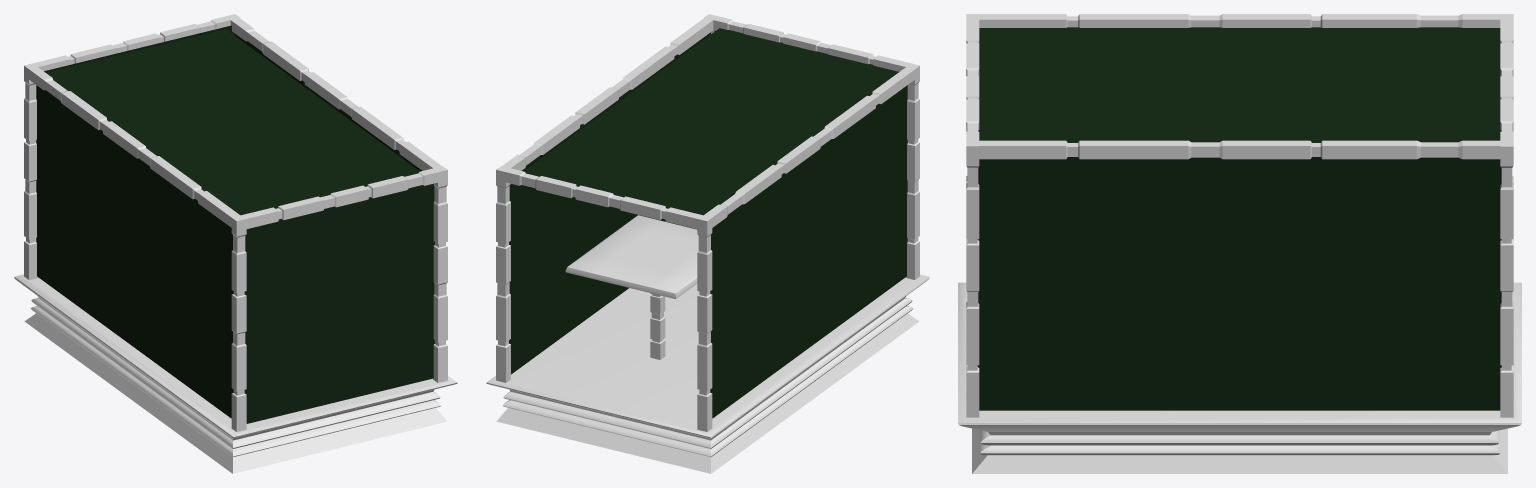
File: DisplayBox.fbx
The picture shows the model from 3 angles, left to right: view 1: azimuth 30°, elevation 25°; view 2: azimuth 150°, elevation 25°; view 3: azimuth 270°, elevation 25°; orthographic projection. The views are drawn at different scales.
Visible parts, largest first — view 1: glassWall001, Plane002, glassWall003, DisplayBoxVar014, displayBoxSticks007, displayBoxSticks008, displayBoxSticks002, displayBoxSticks003, displayBoxSticks006, displayBoxSticks001, displayBoxSticks005, glassWall002 (+1 smaller); view 2: glassWall001, DisplayBoxVar014, glassWall003, glassWall002, shelf, displayBoxSticks007, displayBoxSticks008, displayBoxSticks001, displayBoxSticks004, displayBoxSticks005, displayBoxSticks002, displayBoxSticks006 (+1 smaller); view 3: glassWall002, glassWall003, DisplayBoxVar014, displayBoxSticks008, displayBoxSticks007, displayBoxSticks004, displayBoxSticks003, displayBoxSticks005, displayBoxSticks006.
Boxes of the visible parts, x1=… form: glassWall001: x1=36, y1=85, x2=233, y2=418; Plane002: x1=244, y1=183, x2=434, y2=423; glassWall003: x1=46, y1=29, x2=419, y2=215; DisplayBoxVar014: x1=14, y1=274, x2=457, y2=473; displayBoxSticks007: x1=29, y1=67, x2=240, y2=227; displayBoxSticks008: x1=230, y1=18, x2=441, y2=170; displayBoxSticks002: x1=231, y1=215, x2=246, y2=431; displayBoxSticks003: x1=433, y1=166, x2=447, y2=382; displayBoxSticks006: x1=242, y1=168, x2=437, y2=228; displayBoxSticks001: x1=24, y1=63, x2=38, y2=279; displayBoxSticks005: x1=34, y1=16, x2=230, y2=71; glassWall002: x1=234, y1=33, x2=421, y2=171; glassWall001: x1=710, y1=85, x2=907, y2=418; DisplayBoxVar014: x1=486, y1=274, x2=929, y2=473; glassWall003: x1=524, y1=28, x2=898, y2=215; glassWall002: x1=509, y1=32, x2=710, y2=374; shelf: x1=565, y1=215, x2=698, y2=298; displayBoxSticks007: x1=704, y1=67, x2=914, y2=227; displayBoxSticks008: x1=502, y1=18, x2=713, y2=170; displayBoxSticks001: x1=697, y1=215, x2=712, y2=431; displayBoxSticks004: x1=496, y1=166, x2=510, y2=382; displayBoxSticks005: x1=506, y1=168, x2=701, y2=228; displayBoxSticks002: x1=905, y1=63, x2=919, y2=279; displayBoxSticks006: x1=713, y1=16, x2=909, y2=71; glassWall002: x1=977, y1=157, x2=1501, y2=410; glassWall003: x1=978, y1=27, x2=1501, y2=142; DisplayBoxVar014: x1=958, y1=282, x2=1521, y2=473; displayBoxSticks008: x1=979, y1=140, x2=1500, y2=159; displayBoxSticks007: x1=979, y1=14, x2=1500, y2=27; displayBoxSticks004: x1=1500, y1=140, x2=1513, y2=417; displayBoxSticks003: x1=966, y1=140, x2=979, y2=417; displayBoxSticks005: x1=1500, y1=20, x2=1513, y2=140; displayBoxSticks006: x1=966, y1=20, x2=979, y2=140.
Bounding box in the file's own units: 164 × 177 × 278.
